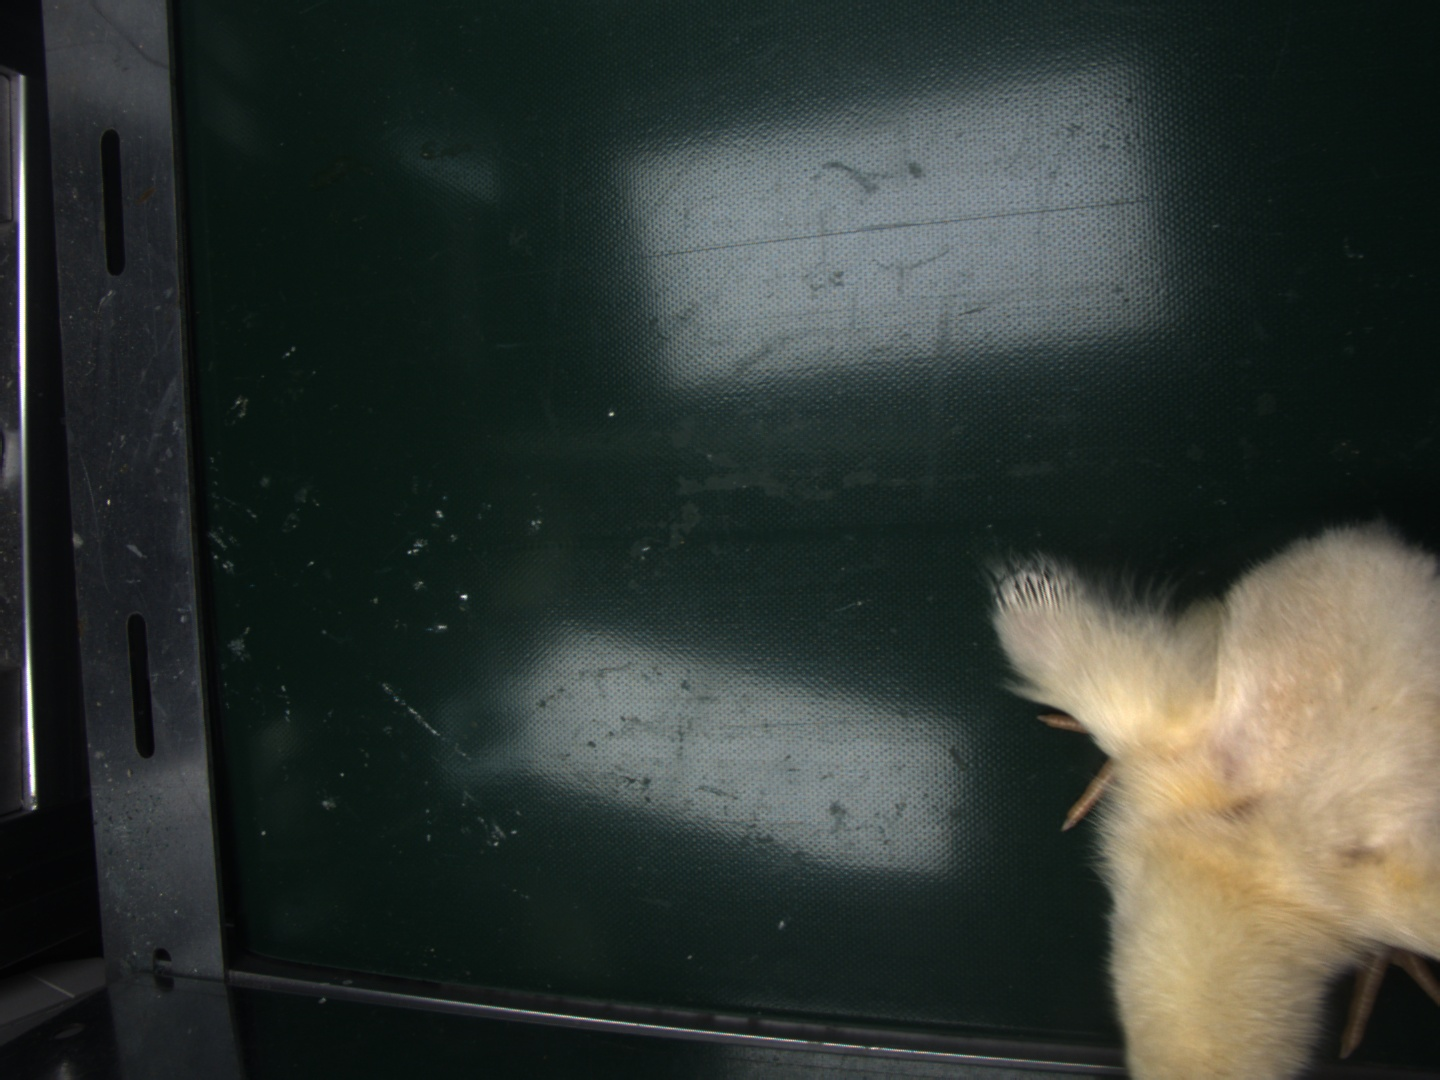male: (996, 566, 1073, 621)
